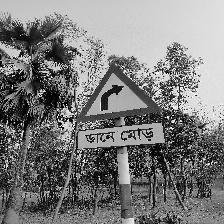Right-turn: (75, 64, 166, 150)
